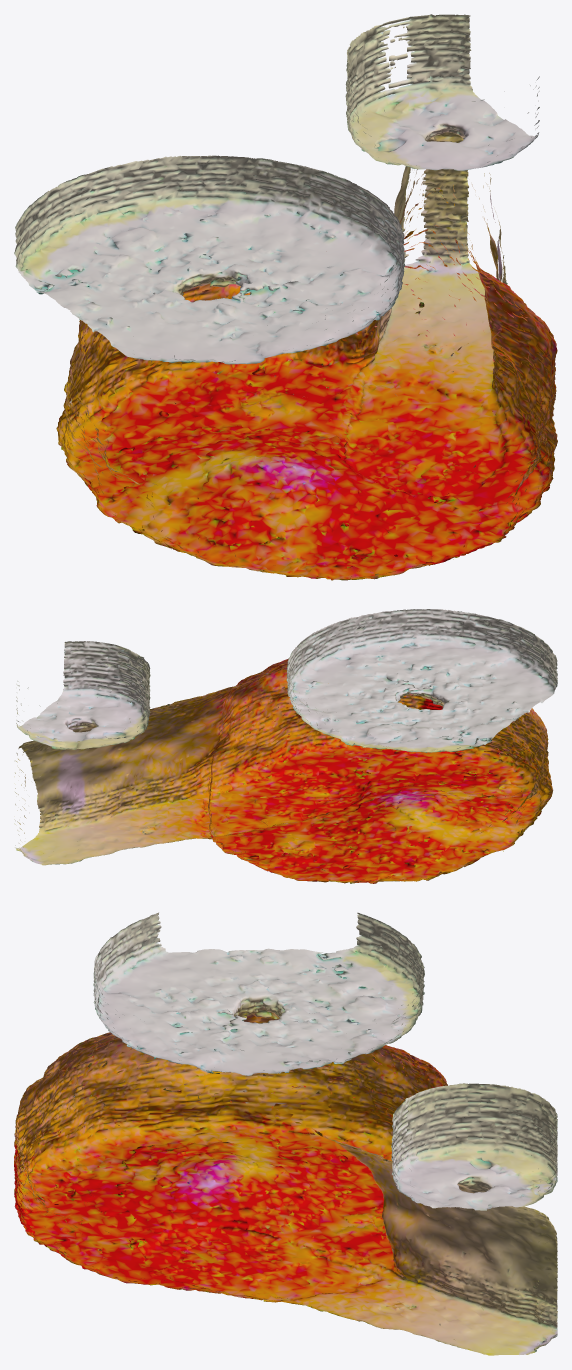
The model's file is sunfall-shell.glb.
3 views of the same model, one above another, from view 1: azimuth 30°, elevation 25°; view 2: azimuth 150°, elevation 25°; view 3: azimuth 270°, elevation 25° (orthographic). The views are drawn at different scales.
Visible parts, largest first — view 1: Shell1, Shell0; view 2: Shell0, Shell1; view 3: Shell1, Shell0.
Part boxes in pixels (bbox=[...]): Shell1: bbox=[14, 155, 474, 580]; Shell0: bbox=[213, 14, 557, 553]; Shell0: bbox=[14, 612, 436, 867]; Shell1: bbox=[259, 609, 557, 883]; Shell1: bbox=[14, 912, 447, 1231]; Shell0: bbox=[18, 1045, 557, 1355].
Bounding box in the file's own units: 998 × 436 × 995.
